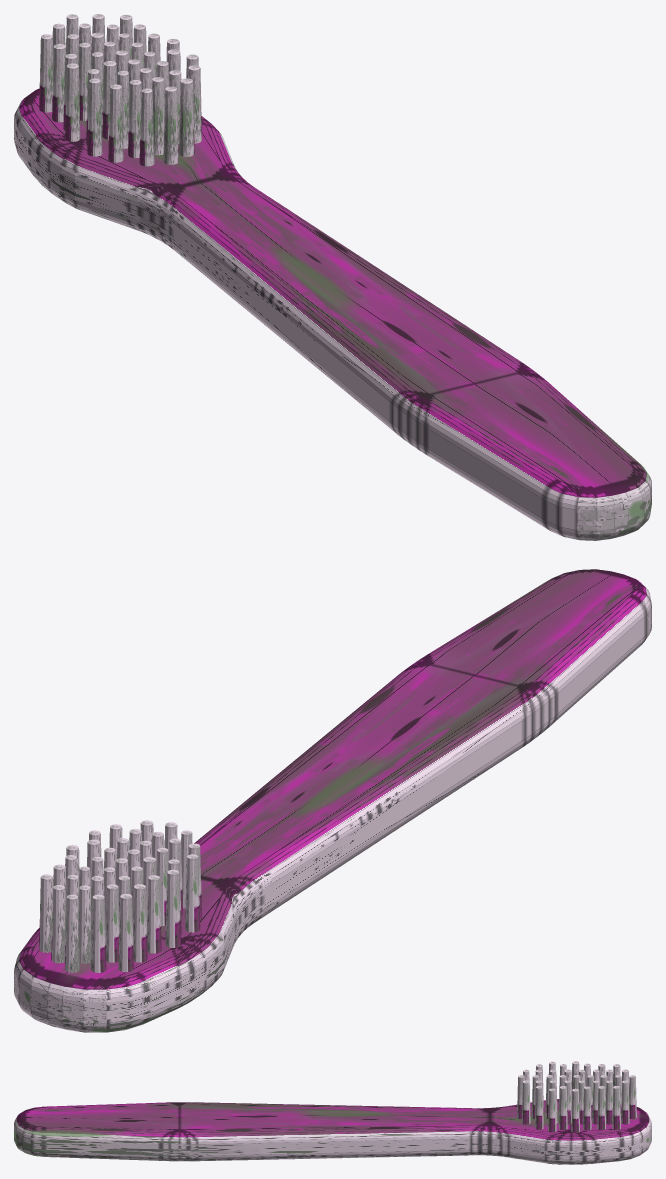
Rendered from Toothbrush_PLASTIC.fbx.
3 views of the same model, one above another, from view 1: azimuth 30°, elevation 25°; view 2: azimuth 150°, elevation 25°; view 3: azimuth 270°, elevation 25° (orthographic). The views are drawn at different scales.
Parts seen in each view (by area): view 1: Cube; view 2: Cube; view 3: Cube.
Boxes of the visible parts, box(x1,y1,x2,y2) form: Cube: box(14, 14, 651, 540); Cube: box(14, 569, 651, 1032); Cube: box(14, 1061, 651, 1164).
Size of the model in its own units: 201 by 152 by 1257.
Materials: 1 (1 with a texture image).
